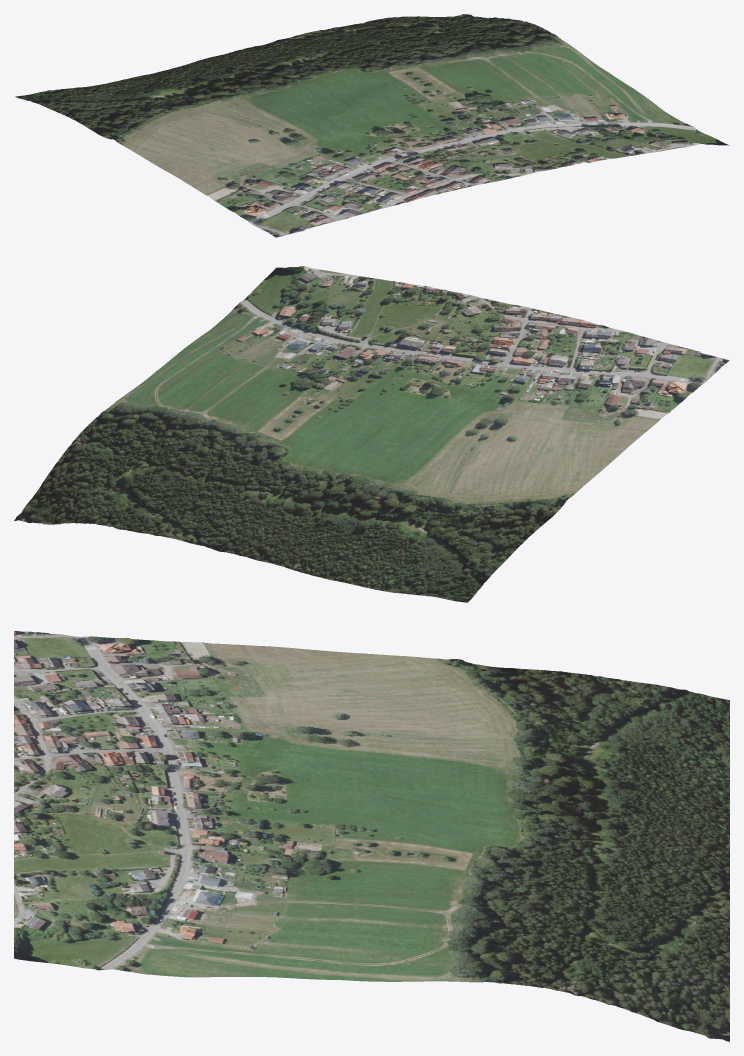
File: terrain_2_2.glb
The picture shows the model from 3 angles, top to bottom: view 1: azimuth 30°, elevation 25°; view 2: azimuth 150°, elevation 25°; view 3: azimuth 270°, elevation 25°; orthographic projection. The views are drawn at different scales.
Visible parts, largest first — view 1: geometry_0; view 2: geometry_0; view 3: geometry_0.
Boxes of the visible parts, x1,y1,x2,y2 form: geometry_0: (15, 14, 729, 237); geometry_0: (14, 266, 729, 602); geometry_0: (14, 631, 729, 1041).
Bounding box in the file's own units: 499 × 88.01 × 499.
Materials: 1 (1 with a texture image).
